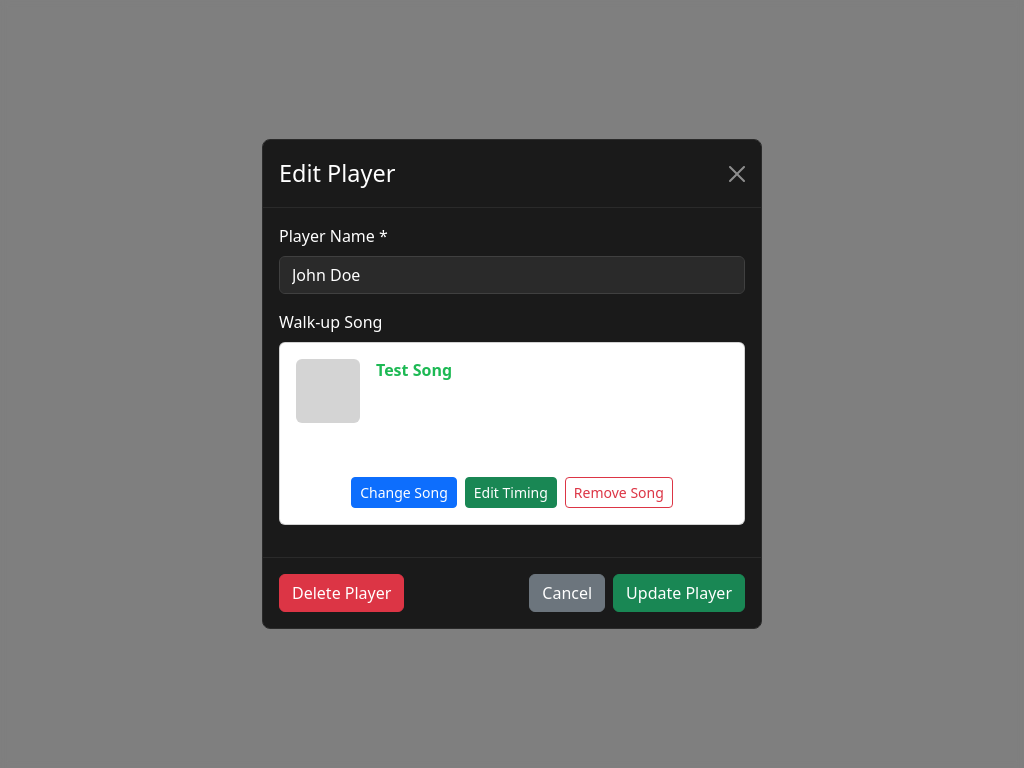
Test case: PlayerForm › Song Management Flow › should open segment selector when Edit Timing button is clicked
When I click the Edit Timing button
Click the button "Edit Timing". click: (511, 492)
box: [465,477,557,508]
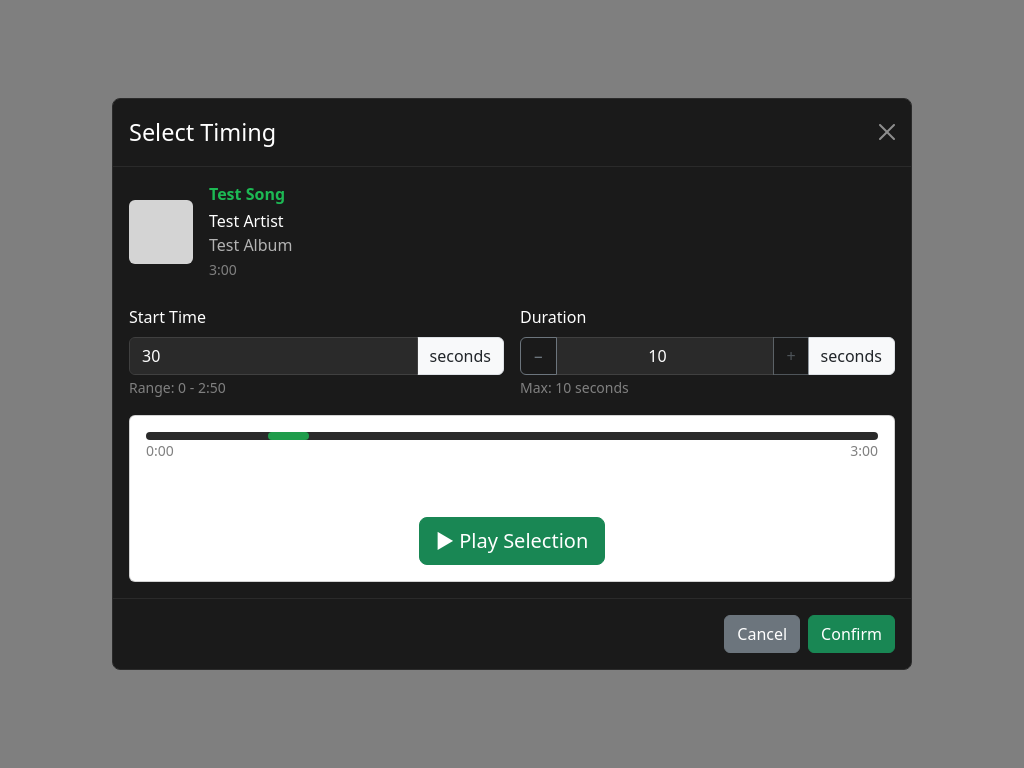
Check: the text "Select Timing" is shown, box [129,115,276,150]
